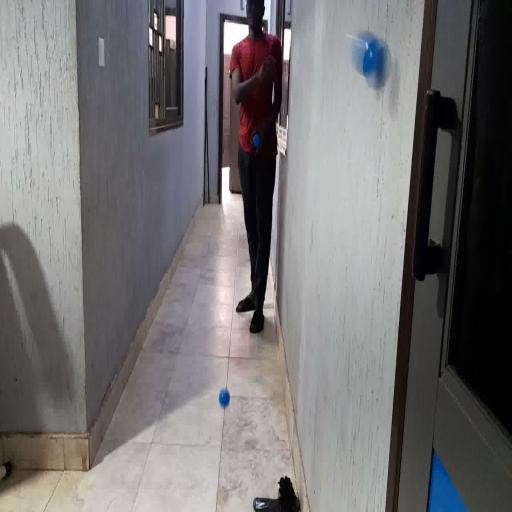plastic-ball: (349, 31, 394, 90)
